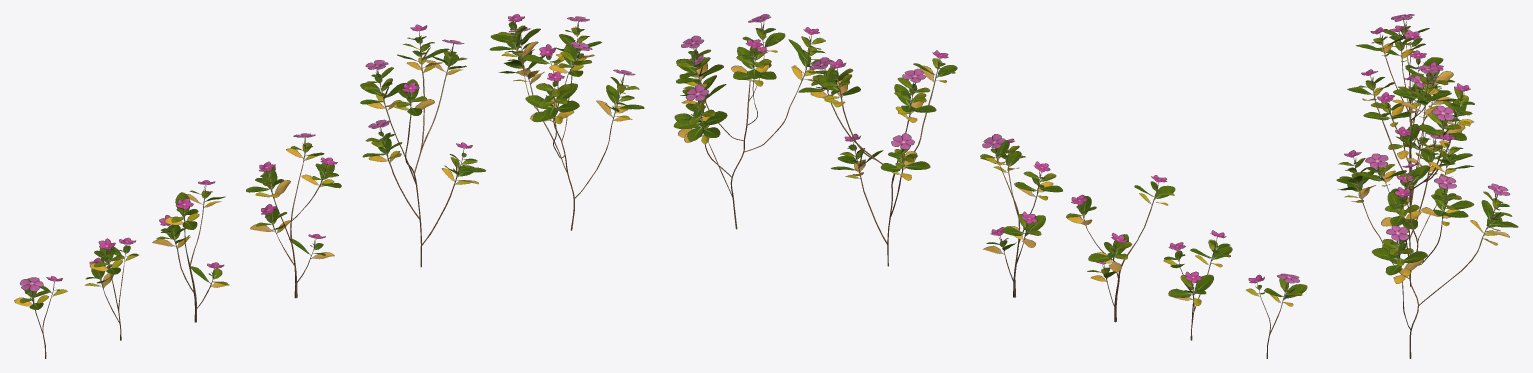
Rendered from fl_purple.glb.
3 renders of one model, left to right at view 1: azimuth 30°, elevation 25°; view 2: azimuth 150°, elevation 25°; view 3: azimuth 270°, elevation 25°, orthographic. The views are drawn at different scales.
Visible parts, largest first — view 1: periwinkle_plant_01_LOD0, periwinkle_plant_02_LOD0, periwinkle_plant_03_LOD0, periwinkle_plant_04_LOD0, periwinkle_plant_05_LOD0, periwinkle_plant_06_LOD0; view 2: periwinkle_plant_01_LOD0, periwinkle_plant_02_LOD0, periwinkle_plant_03_LOD0, periwinkle_plant_04_LOD0, periwinkle_plant_05_LOD0, periwinkle_plant_06_LOD0; view 3: periwinkle_plant_01_LOD0, periwinkle_plant_02_LOD0, periwinkle_plant_03_LOD0, periwinkle_plant_04_LOD0, periwinkle_plant_05_LOD0, periwinkle_plant_06_LOD0.
Boxes of the visible parts, x1,y1,x2,y2 form: periwinkle_plant_01_LOD0: (489,14,644,230); periwinkle_plant_02_LOD0: (360,24,485,267); periwinkle_plant_03_LOD0: (246,133,341,298); periwinkle_plant_04_LOD0: (152,180,229,322); periwinkle_plant_05_LOD0: (85,237,138,340); periwinkle_plant_06_LOD0: (14,276,67,358); periwinkle_plant_01_LOD0: (673,14,833,229); periwinkle_plant_02_LOD0: (798,50,957,266); periwinkle_plant_03_LOD0: (980,134,1062,297); periwinkle_plant_04_LOD0: (1066,175,1175,322); periwinkle_plant_05_LOD0: (1163,230,1232,340); periwinkle_plant_06_LOD0: (1246,273,1307,358); periwinkle_plant_01_LOD0: (1336,133,1518,358); periwinkle_plant_02_LOD0: (1347,65,1474,286); periwinkle_plant_03_LOD0: (1363,75,1440,207); periwinkle_plant_04_LOD0: (1355,27,1455,171); periwinkle_plant_05_LOD0: (1377,25,1454,123); periwinkle_plant_06_LOD0: (1383,14,1429,103).
Bounding box in the file's own units: 1.24 × 0.4107 × 0.3207.
1 material, 1 textured.
